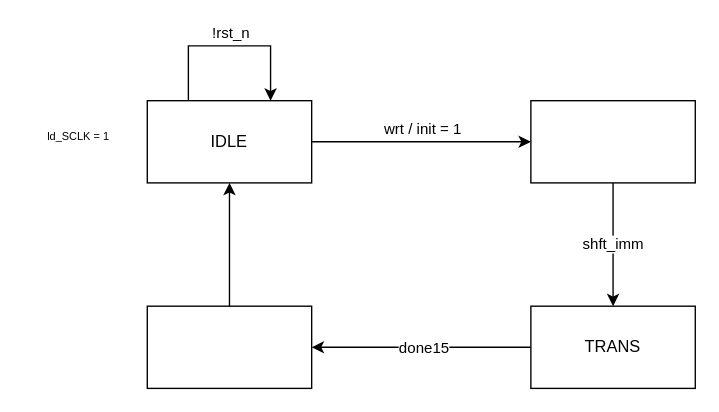
The diagram is 719 pixels wide and 412 high, and some of its shapes have lost their labels. The centre of each missing label's shape, as x and y in pixels:
BACK_PORCH: the point at 229,346
FRONT_PORCH: the point at 612,141
